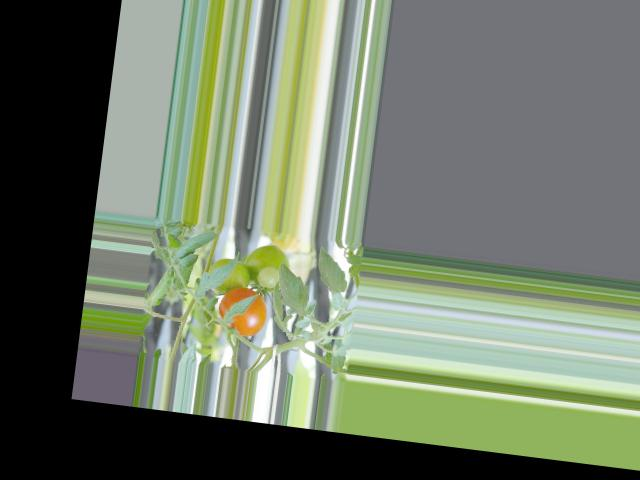tomato: (216, 285, 270, 338)
